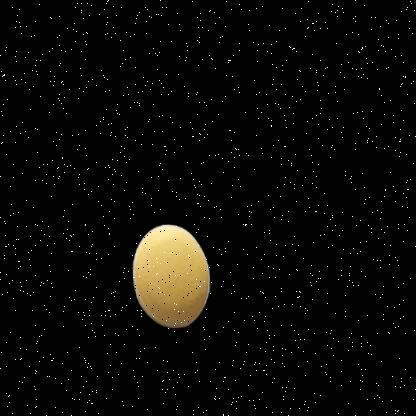rabeparzole20: (116, 203, 229, 349)
